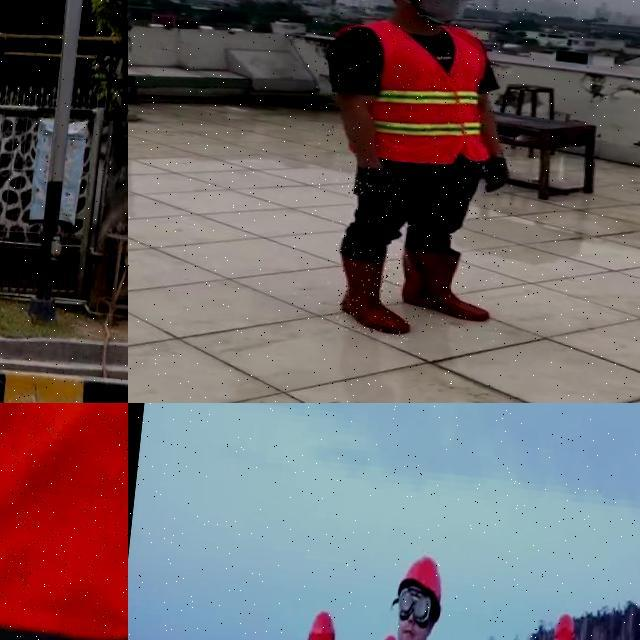boots: (394, 242, 499, 326), (334, 247, 416, 339)
helmet: (398, 556, 444, 608), (306, 610, 336, 640), (552, 614, 576, 640)
vest: (0, 403, 128, 640), (316, 12, 504, 172)
